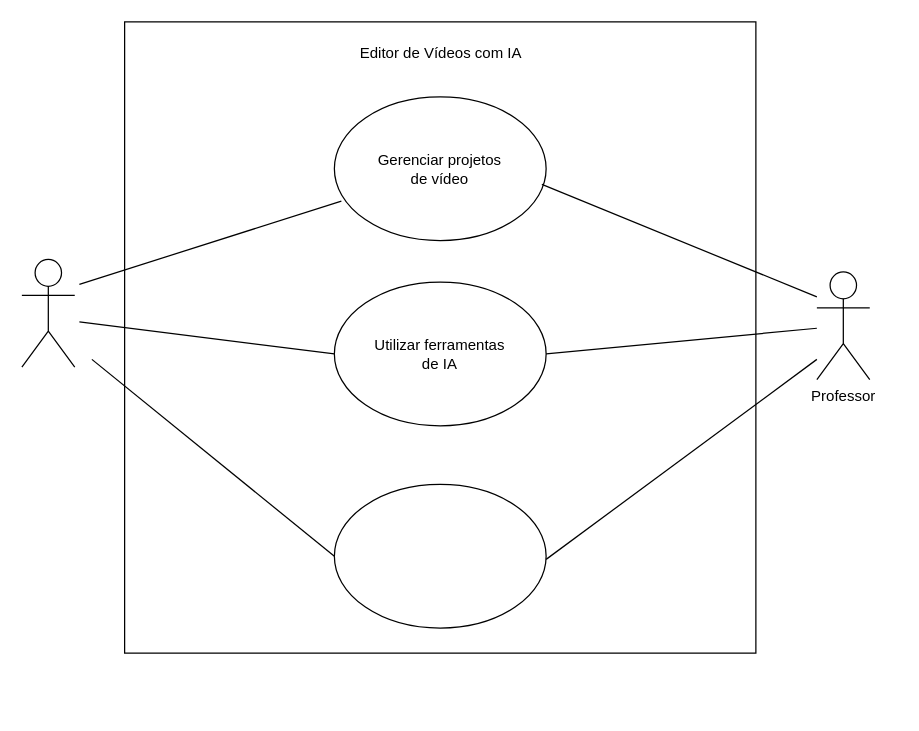
Some shapes in this 919 by 731 pixel diagram are drawn without their labels. The centre of each missing label's shape, as x and y in pixels:
Aluno1: pixel 48 312
Gerenciar atividades acadêmicas: pixel 439 555
